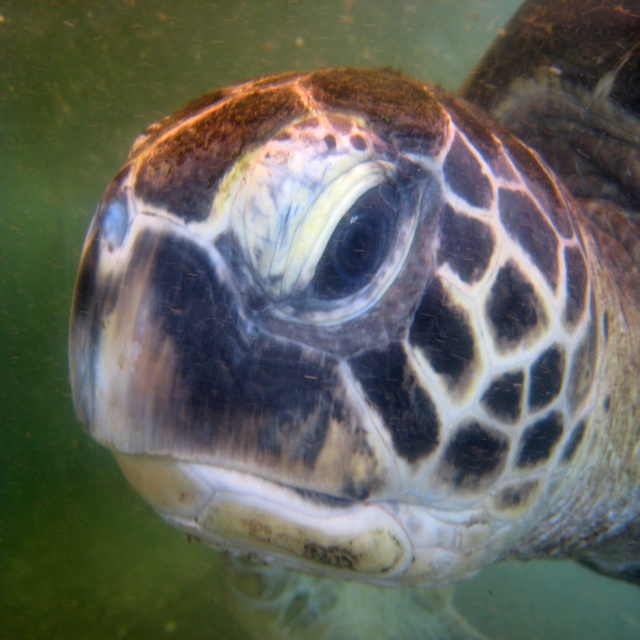Sea turtle: (68, 0, 640, 640)
